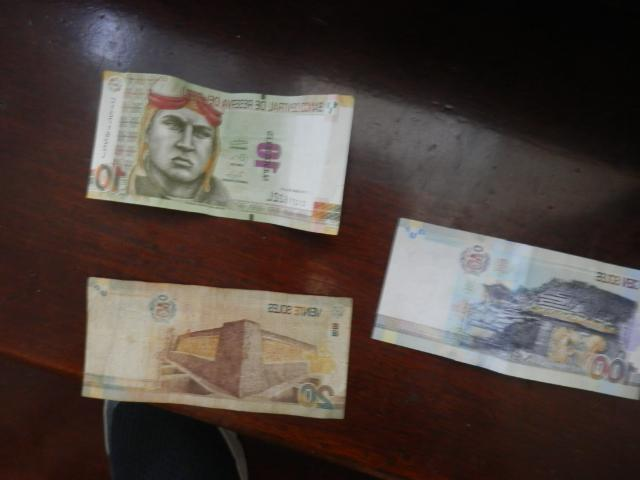B10: (86, 70, 354, 236)
B100: (371, 218, 640, 398)
B20: (83, 275, 353, 421)
